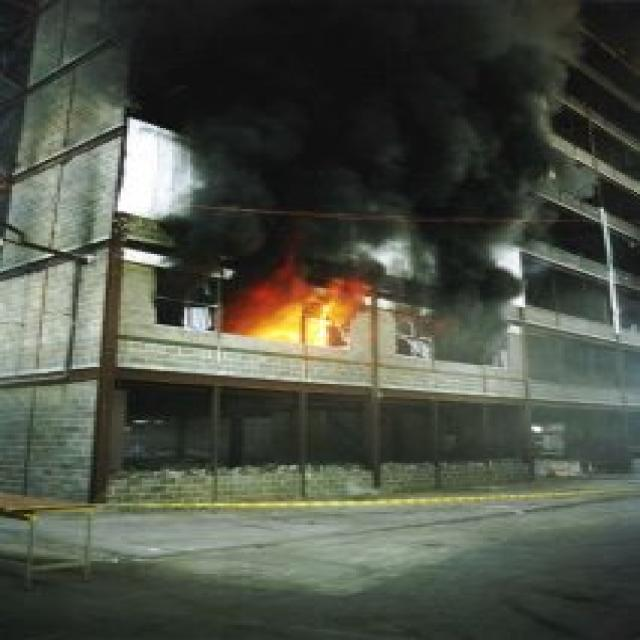fire: (228, 279, 368, 349)
smoke: (147, 7, 571, 254)
